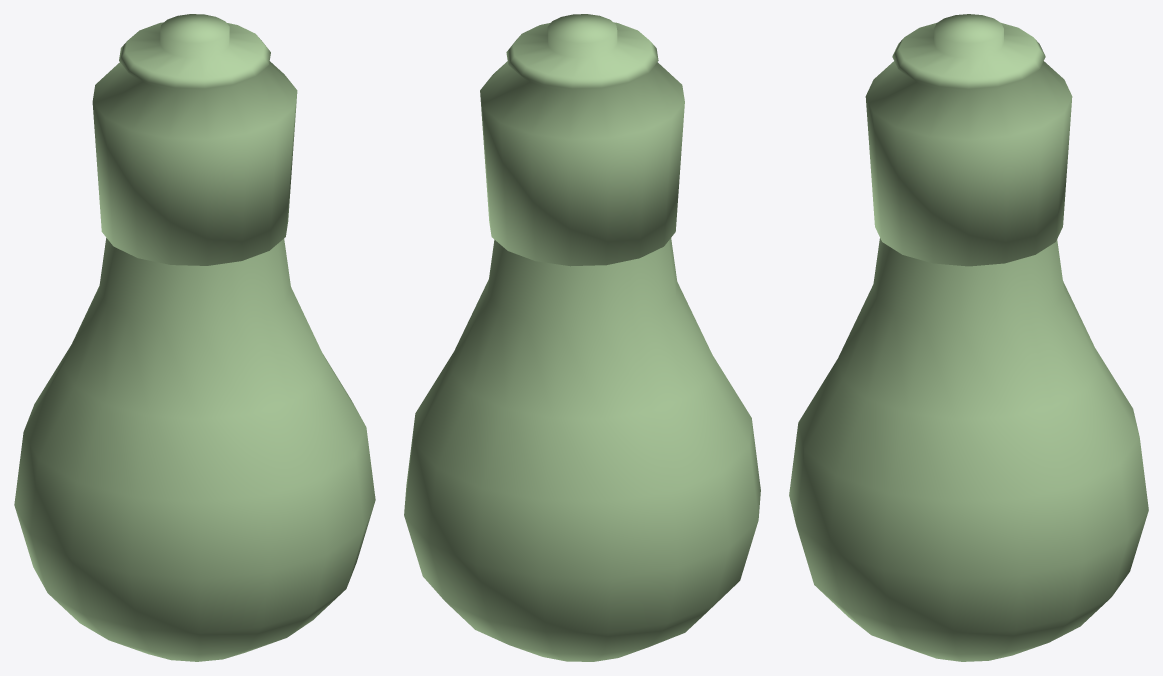
The model's file is light.fbx.
3 renders of one model, left to right at view 1: azimuth 30°, elevation 25°; view 2: azimuth 150°, elevation 25°; view 3: azimuth 270°, elevation 25°, orthographic.
Visible parts, largest first — view 1: Object004, camp11_low; view 2: Object004, camp11_low; view 3: Object004, camp11_low.
Part boxes in pixels (bbox=[...]): Object004: bbox=[14, 238, 375, 661]; camp11_low: bbox=[92, 14, 297, 265]; Object004: bbox=[404, 238, 760, 661]; camp11_low: bbox=[480, 14, 684, 266]; Object004: bbox=[789, 238, 1148, 661]; camp11_low: bbox=[865, 14, 1072, 266].
Bounding box in the file's own units: 15.49 × 15.49 × 29.68.
